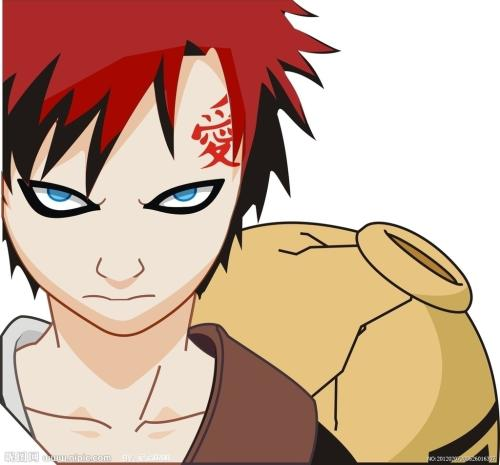gaara: (6, 45, 269, 337)
